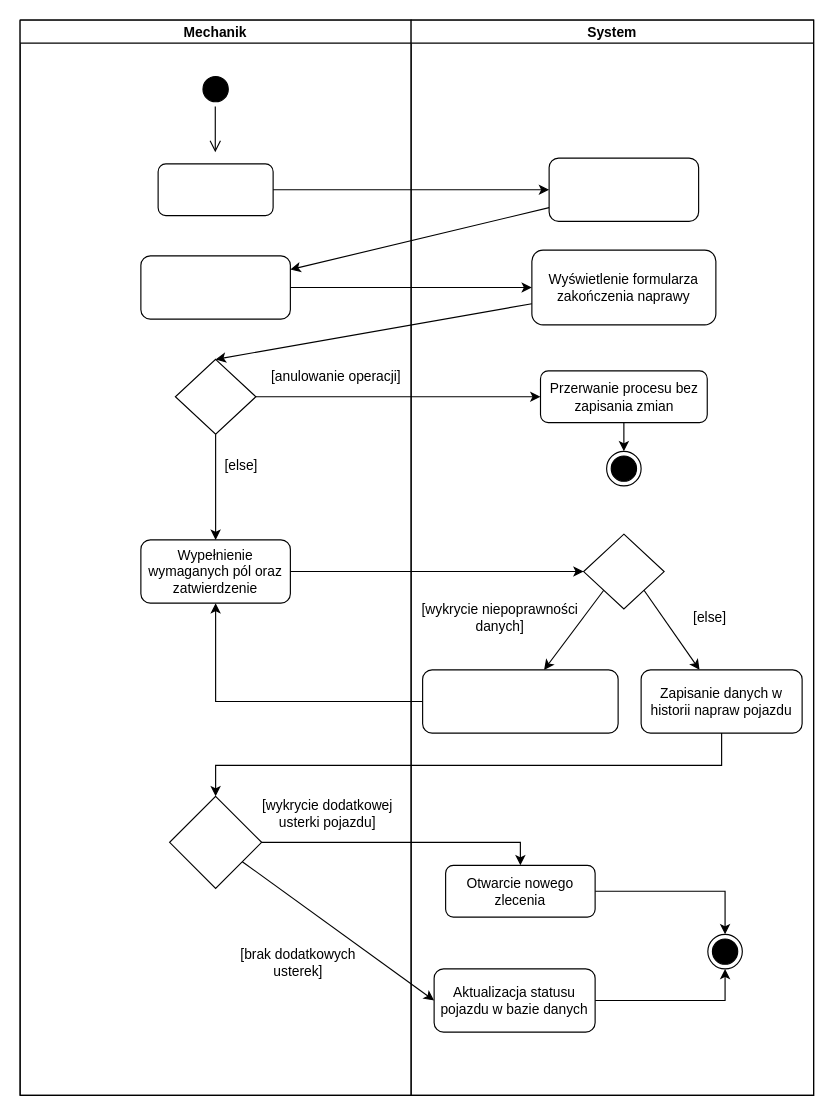
Image size: 834x1116. Some labels were removed from this diagram. The centre of each missing label's shape, as x and y in pixels:
"Logowanie do systemu" goes at (x=215, y=189).
"Wybranie zlecenia naprawy" goes at (x=215, y=287).
"Wyświetlenie komunikatu o błędzie i podświetlenie pól" goes at (x=519, y=701).
"Wyświetlenie listy aktywnych zleceń napraw" goes at (x=623, y=189).
